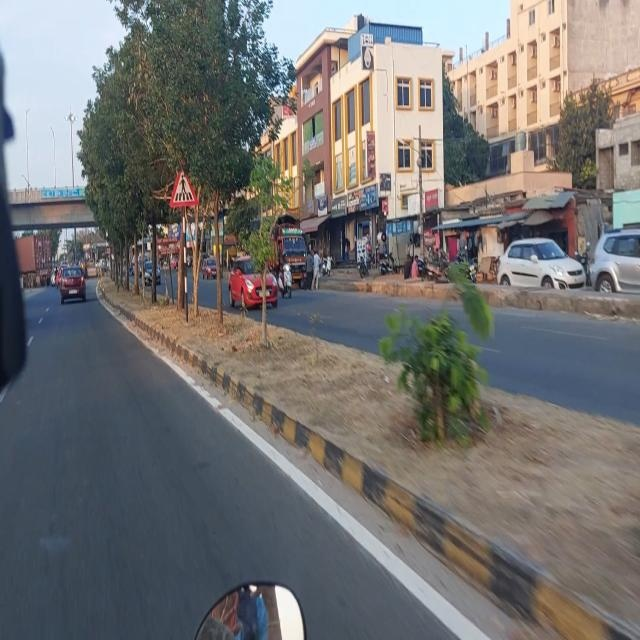bien_chi_dan: (170, 160, 198, 208)
